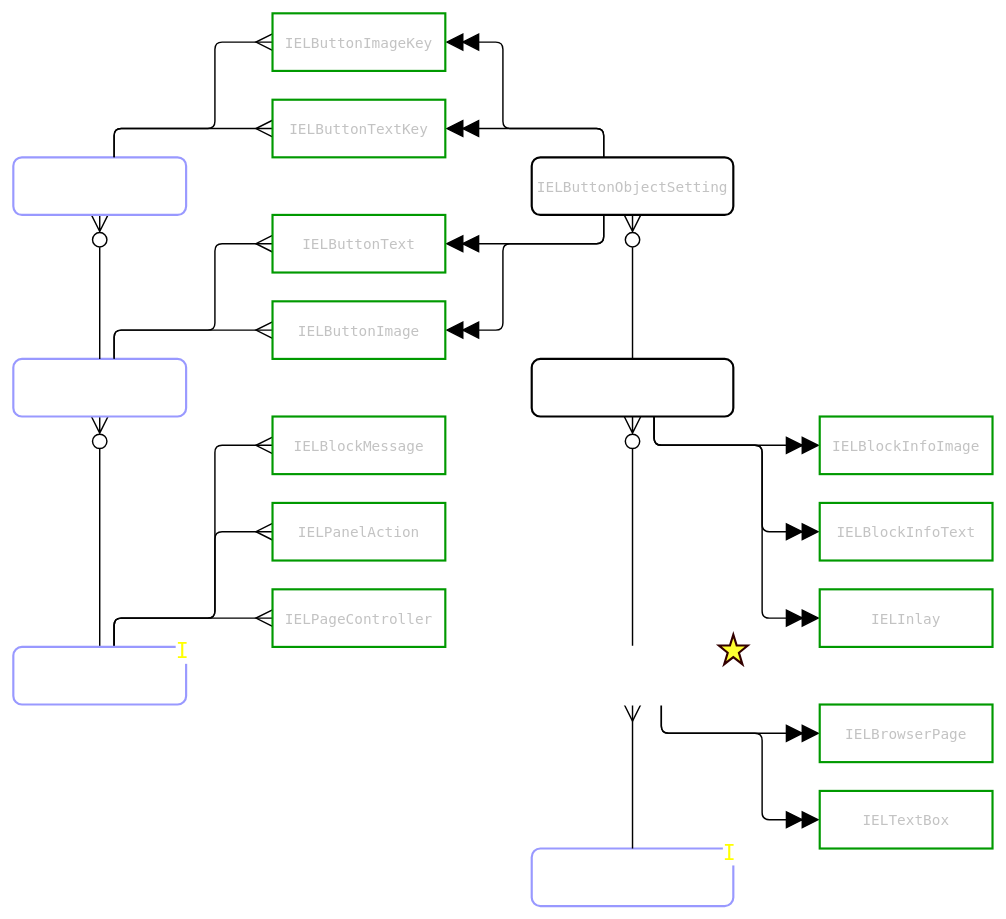
The diagram is 1006 pixels wide and 919 high, and some of its shapes have lost their labels. The box of each missing label's shape, as (x1, y1, x2, y2) in pixels:
IELObjectSetting: (530, 645, 734, 705)
IELUsingObjectSetting: (530, 357, 734, 417)
IIELButton: (12, 357, 187, 417)
IIELButtonKey: (12, 156, 187, 216)
IIELObject: (12, 645, 187, 705)
IIELObjectSetting: (530, 847, 734, 907)
